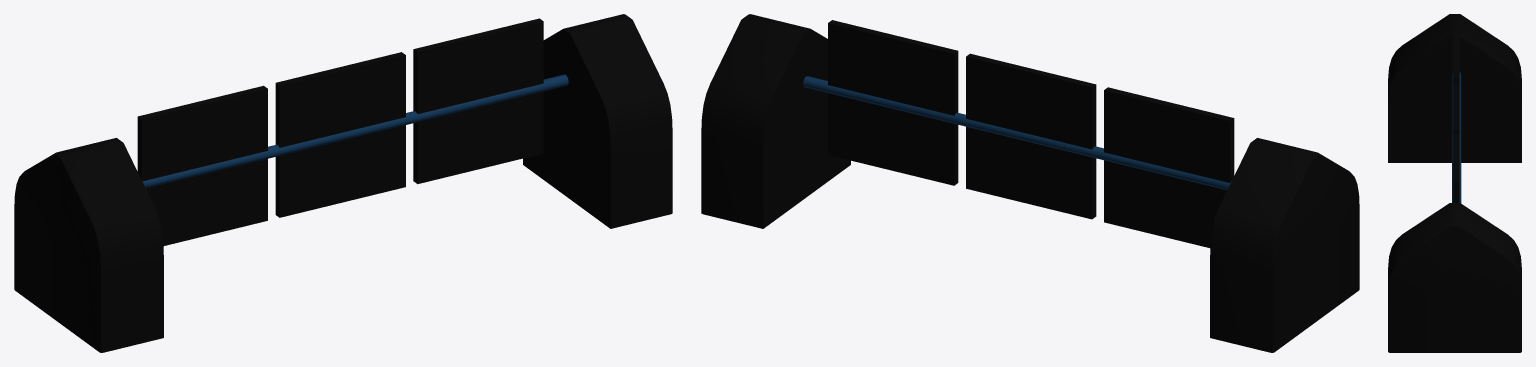
The model's file is Tournette.fbx.
3 views of the same model, side by side, from view 1: azimuth 30°, elevation 25°; view 2: azimuth 150°, elevation 25°; view 3: azimuth 270°, elevation 25° (orthographic). The views are drawn at different scales.
Parts seen in each view (by area): view 1: Box021, Box022, Box025, Box024, Box023, Cylinder001; view 2: Box021, Box022, Box024, Box025, Box023, Cylinder001; view 3: Box022, Box021, Cylinder001, Box025, Box023, Box024.
Part boxes in pixels (x1,y1,x2,y2): Box021: [14, 138, 163, 352]; Box022: [523, 14, 672, 228]; Box025: [413, 18, 543, 184]; Box024: [275, 52, 405, 217]; Box023: [137, 85, 267, 246]; Cylinder001: [142, 74, 568, 188]; Box021: [1210, 138, 1359, 352]; Box022: [701, 14, 850, 228]; Box024: [966, 53, 1096, 219]; Box025: [828, 20, 958, 185]; Box023: [1104, 87, 1234, 247]; Cylinder001: [803, 76, 1231, 190]; Box022: [1388, 203, 1521, 352]; Box021: [1388, 14, 1521, 162]; Cylinder001: [1452, 71, 1461, 203]; Box025: [1453, 134, 1459, 202]; Box023: [1453, 31, 1459, 82]; Box024: [1453, 83, 1459, 134].
Bounding box in the file's own units: 454 × 138 × 120.
